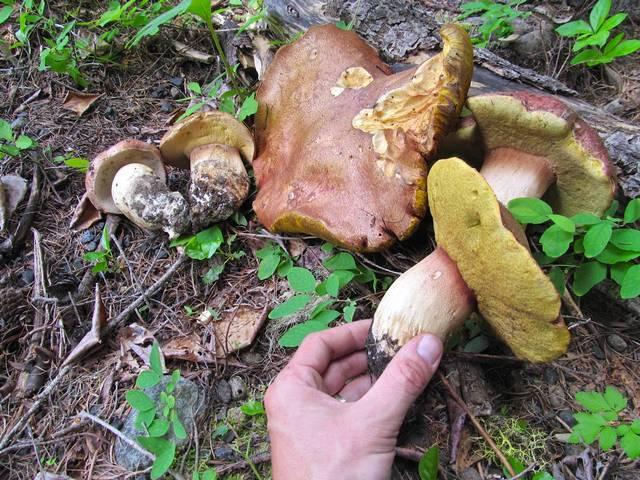Edible Mushroom: (250, 21, 474, 253), (364, 155, 571, 383), (79, 137, 190, 243), (157, 109, 255, 227)
